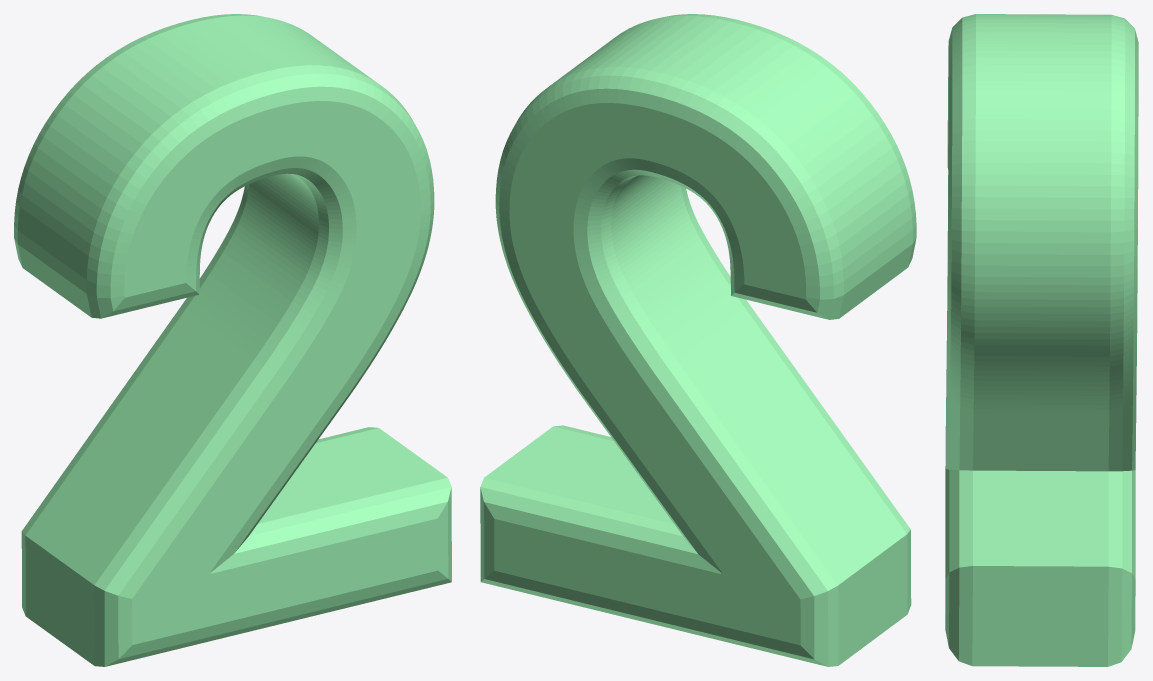
3 renders of one model, left to right at view 1: azimuth 30°, elevation 25°; view 2: azimuth 150°, elevation 25°; view 3: azimuth 270°, elevation 25°, orthographic.
Bounding box in the file's own units: 15.08 × 22.07 × 7.12.
